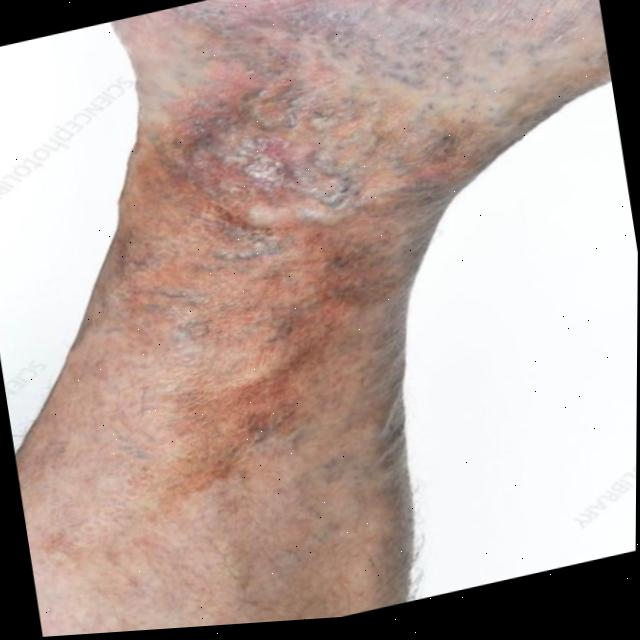Eczema: (78, 0, 593, 566)
